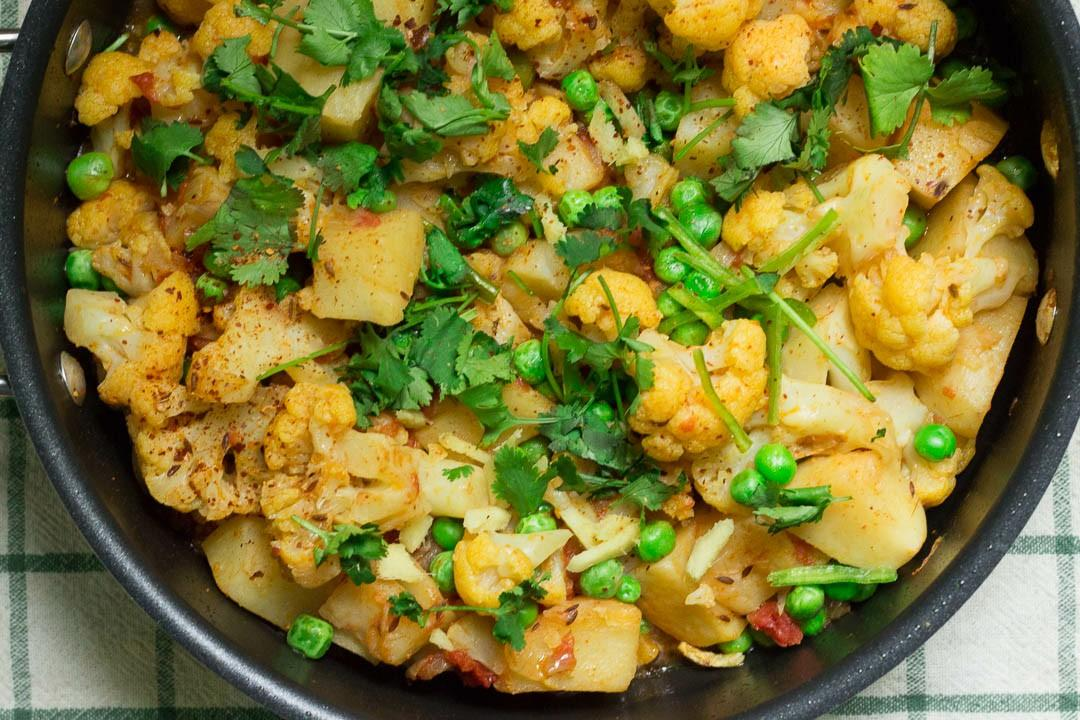AlooGobi: (66, 0, 1039, 694)
